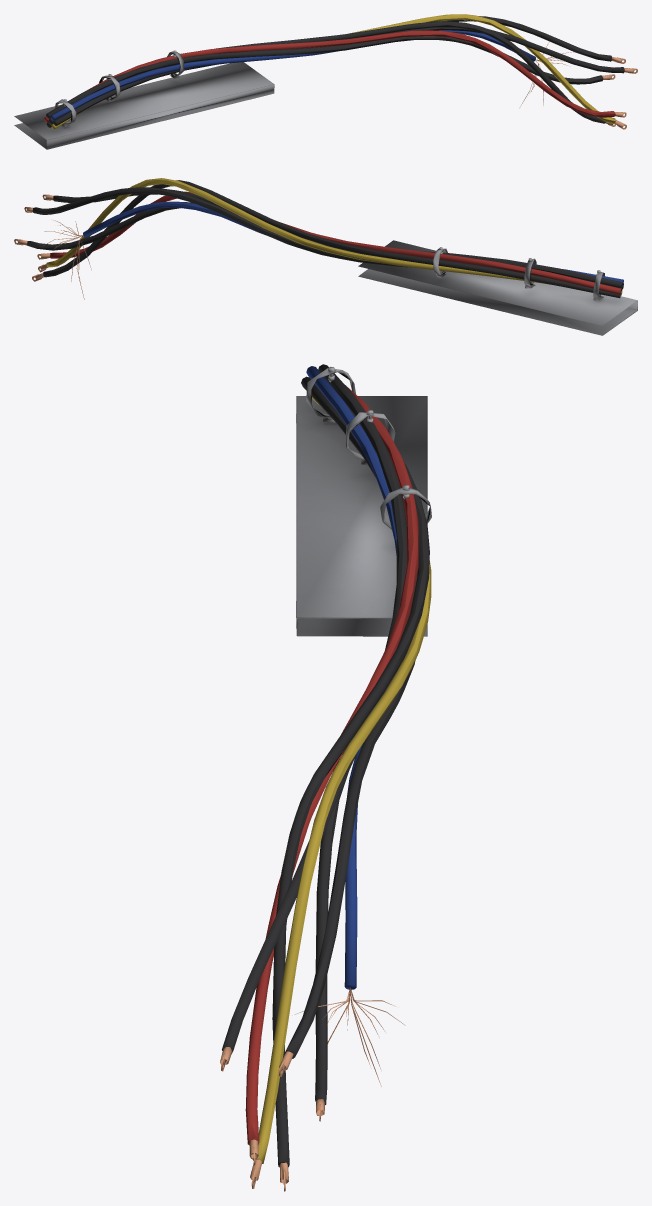
The model's file is industrial_cable_bundle_lod1.glb.
3 views of the same model, one above another, from view 1: azimuth 30°, elevation 25°; view 2: azimuth 150°, elevation 25°; view 3: azimuth 270°, elevation 25° (orthographic). The views are drawn at different scales.
Visible parts, largest first — view 1: industrial_cable_bundle_paint, industrial_cable_bundle_rubber, industrial_cable_bundle_cable_red, industrial_cable_bundle_cable_blue, industrial_cable_bundle_cable_yellow, industrial_cable_bundle_copper; view 2: industrial_cable_bundle_paint, industrial_cable_bundle_rubber, industrial_cable_bundle_cable_yellow, industrial_cable_bundle_cable_red, industrial_cable_bundle_cable_blue, industrial_cable_bundle_copper; view 3: industrial_cable_bundle_paint, industrial_cable_bundle_rubber, industrial_cable_bundle_cable_yellow, industrial_cable_bundle_cable_red, industrial_cable_bundle_cable_blue, industrial_cable_bundle_copper.
Boxes of the visible parts, x1=… form: industrial_cable_bundle_paint: x1=14, y1=51, x2=274, y2=149; industrial_cable_bundle_rubber: x1=46, y1=16, x2=624, y2=127; industrial_cable_bundle_cable_red: x1=44, y1=30, x2=615, y2=122; industrial_cable_bundle_cable_blue: x1=50, y1=30, x2=535, y2=120; industrial_cable_bundle_cable_yellow: x1=51, y1=14, x2=615, y2=129; industrial_cable_bundle_copper: x1=519, y1=42, x2=637, y2=129; industrial_cable_bundle_paint: x1=358, y1=240, x2=637, y2=335; industrial_cable_bundle_rubber: x1=26, y1=180, x2=623, y2=298; industrial_cable_bundle_cable_yellow: x1=46, y1=178, x2=622, y2=295; industrial_cable_bundle_cable_red: x1=50, y1=191, x2=621, y2=294; industrial_cable_bundle_cable_blue: x1=83, y1=201, x2=623, y2=285; industrial_cable_bundle_copper: x1=14, y1=194, x2=91, y2=299; industrial_cable_bundle_paint: x1=296, y1=368, x2=431, y2=636; industrial_cable_bundle_rubber: x1=222, y1=364, x2=429, y2=1167; industrial_cable_bundle_cable_yellow: x1=252, y1=397, x2=431, y2=1163; industrial_cable_bundle_cable_red: x1=245, y1=385, x2=418, y2=1145; industrial_cable_bundle_cable_blue: x1=306, y1=366, x2=396, y2=989; industrial_cable_bundle_copper: x1=220, y1=987, x2=405, y2=1191.
Size of the model in its own units: 3.03 by 0.7792 by 0.4843.
7 materials, 1 textured.
